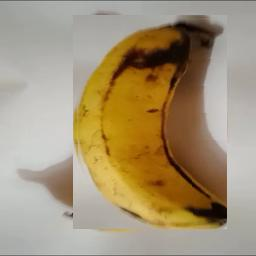Banana Semifresh: (73, 15, 227, 229)
